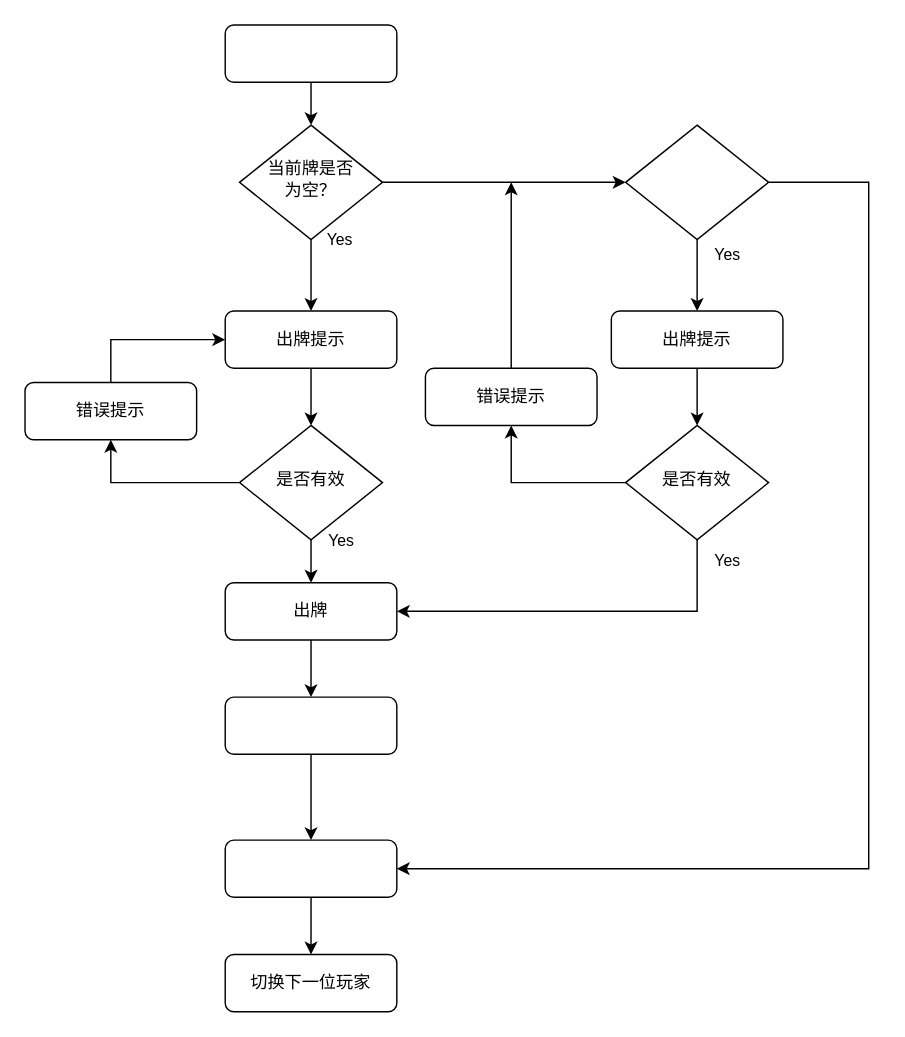
The diagram is 905 pixels wide and 1037 high, and some of its shapes have lost their labels. The centre of each missing label's shape, as x and y in pixels:
下一位提示: [310,868]
是否要接牌？: [696,182]
显示: [310,725]
显示姓名，手牌: [310,53]
